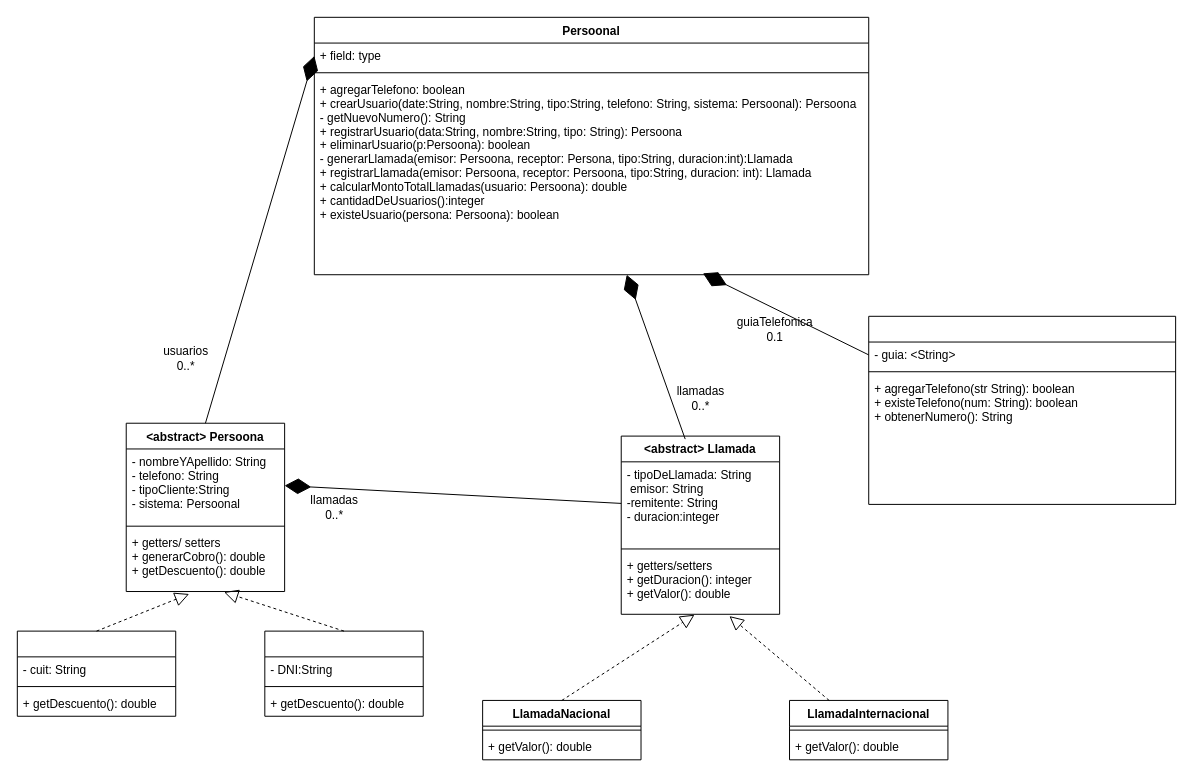
Image size: 1193x780. Some labels were removed from this diagram. Each missing label, with the box of its shape:
GuiaTelefonica: (868, 315, 1176, 504)
PersonaFisica: (264, 630, 423, 716)
PersonaJuridica: (16, 630, 176, 716)
